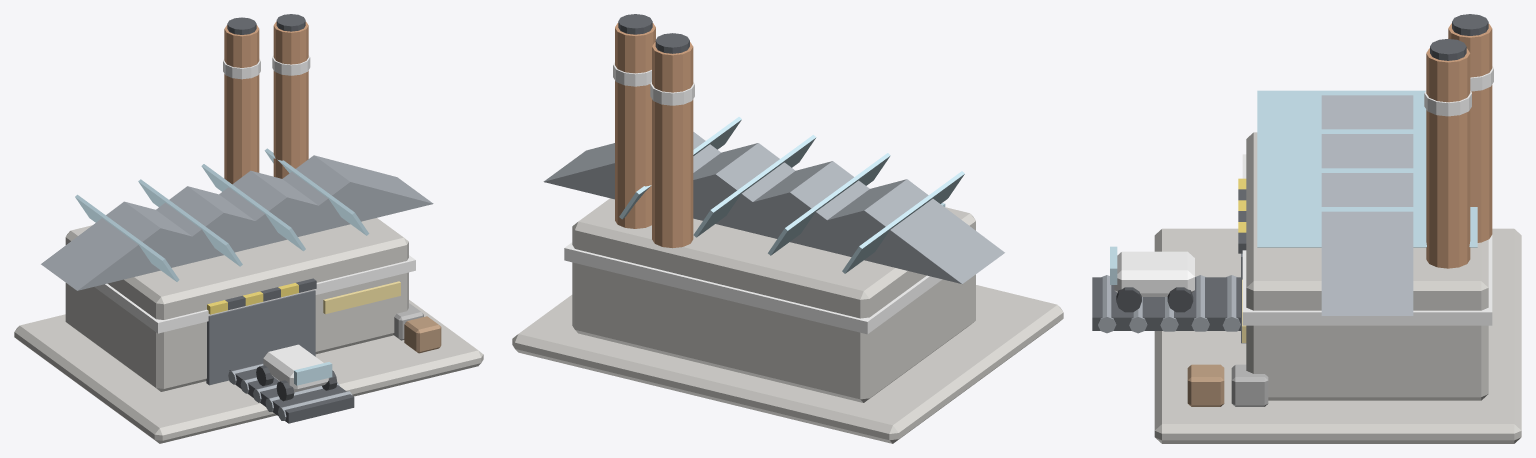
File: factory.glb
3 views of the same model, side by side, from view 1: azimuth 30°, elevation 25°; view 2: azimuth 150°, elevation 25°; view 3: azimuth 270°, elevation 25° (orthographic). The views are drawn at different scales.
Visible parts, largest first — view 1: main; view 2: main; view 3: main.
Part boxes in pixels (x1,y1,x2,y2): main: [14, 14, 483, 443]; main: [512, 14, 1063, 443]; main: [1092, 14, 1521, 443].
Size of the model in its own units: 1.41 by 1.06 by 1.17.
